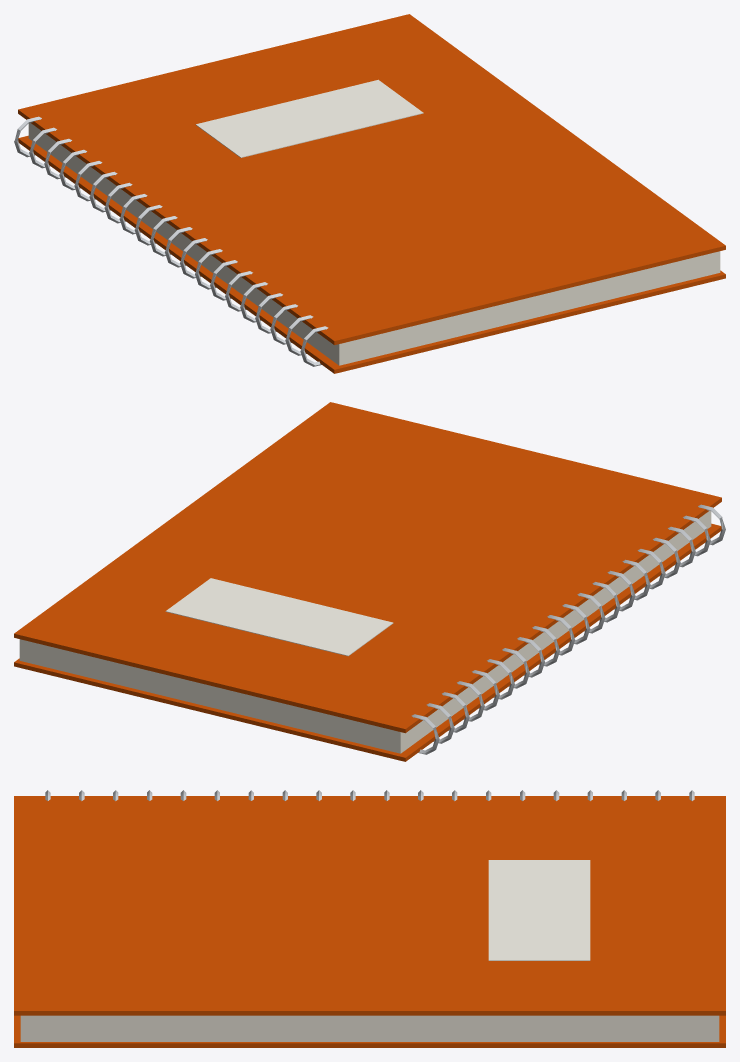
Rendered from notebook.glb.
3 views of the same model, one above another, from view 1: azimuth 30°, elevation 25°; view 2: azimuth 150°, elevation 25°; view 3: azimuth 270°, elevation 25° (orthographic). The views are drawn at different scales.
Parts seen in each view (by area): view 1: notebook; view 2: notebook; view 3: notebook.
Boxes of the visible parts, x1,y1,x2,y2 form: notebook: (14,14,725,373); notebook: (14,402,725,761); notebook: (14,790,725,1047).
Bounding box in the file's own units: 0.1573 × 0.0139 × 0.21.
